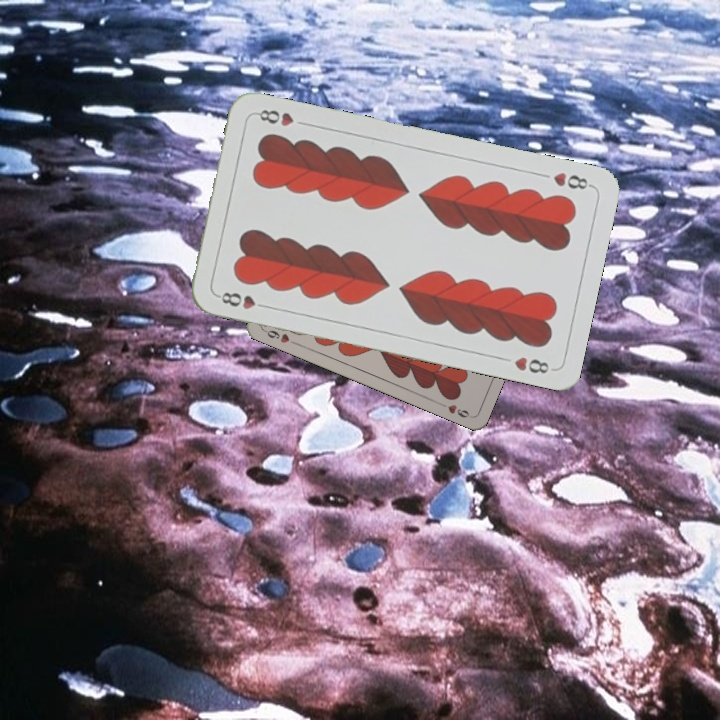H8: (213, 288, 272, 312), (549, 168, 595, 192)
H9: (260, 325, 299, 347)
